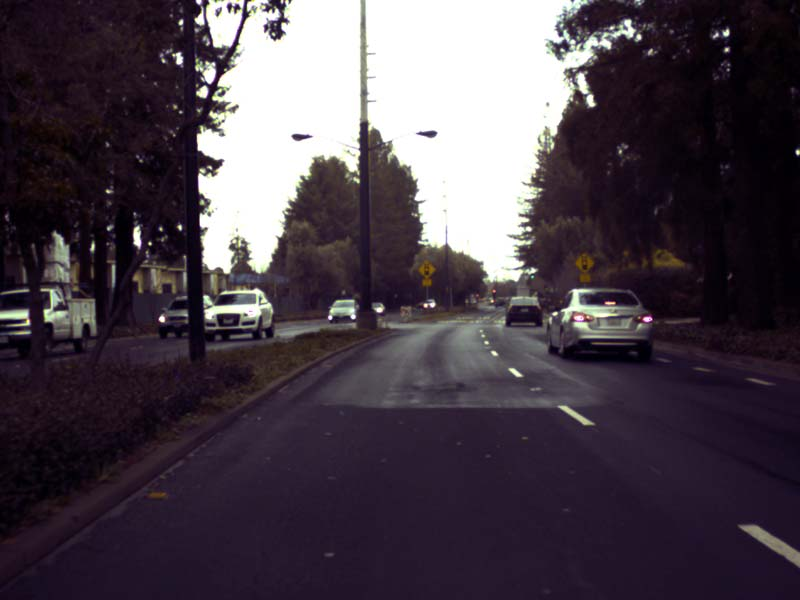Green: (543, 283, 547, 291), (531, 272, 534, 280)
Red: (492, 289, 496, 297), (475, 290, 478, 298)
